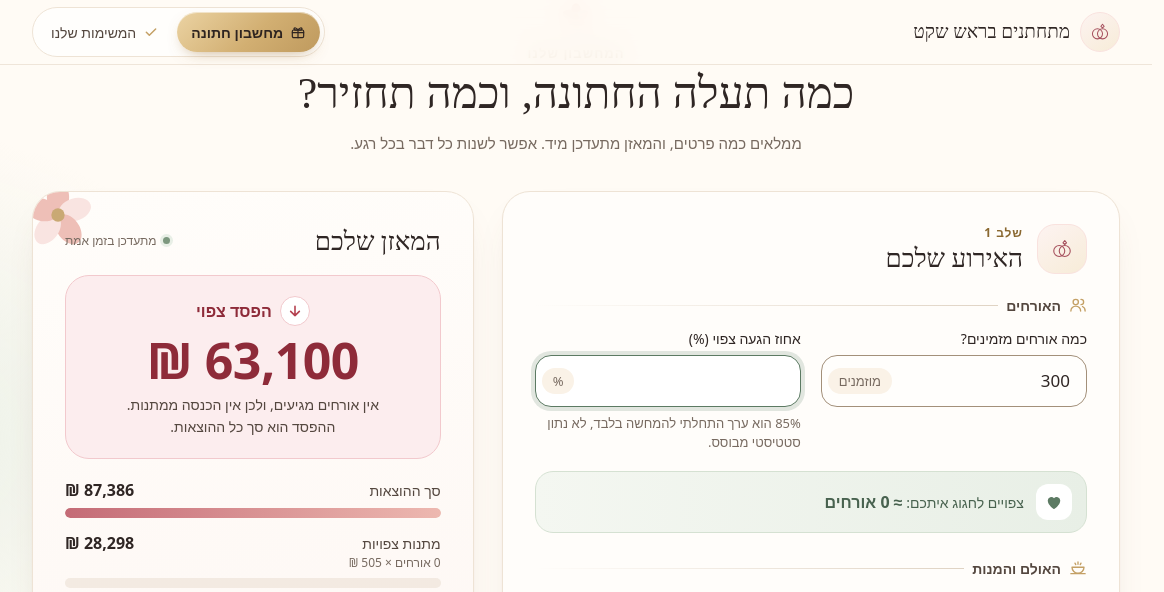
Test: What-if scenarios › follows the entered attendance until the user moves the slider
The width and height of the screenshot is (1164, 592).
Earlier steps of the test are not shown.
(page scrolled)
Type "90" into the field labelled "אחוז הגעה צפוי (%)" at (687, 381), box 574,358 -> 800,404
(page scrolled)
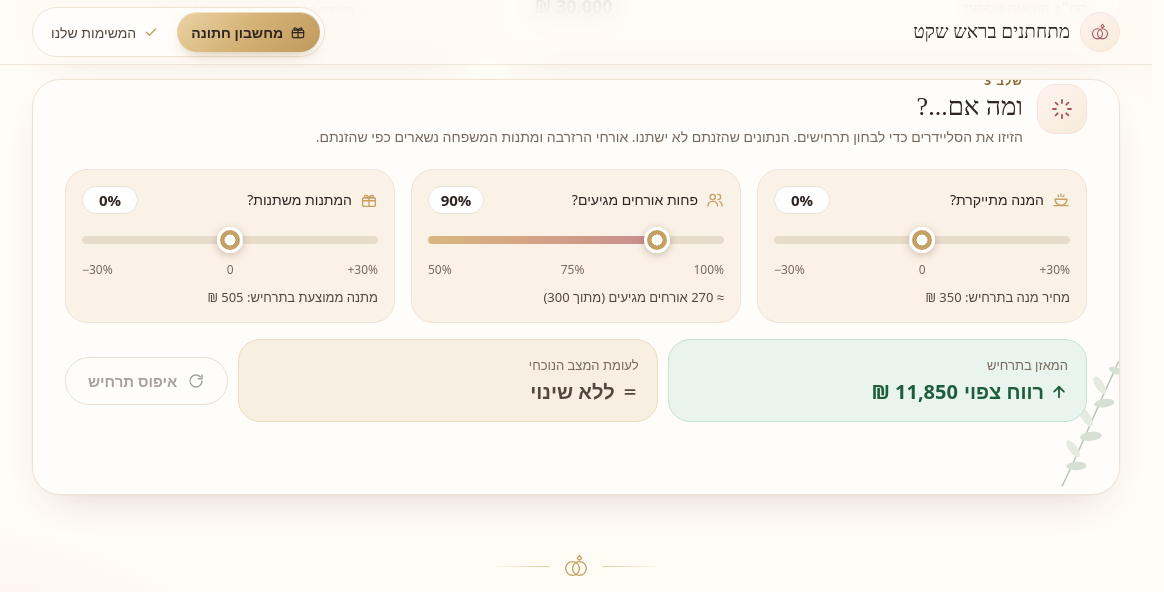
Expected: the slider labelled "פחות אורחים מגיעים?" holds "90", 428,224 -> 724,256
Expected: the element with test id "scenario-diff" shows "ללא שינוי", 530,378 -> 615,405
